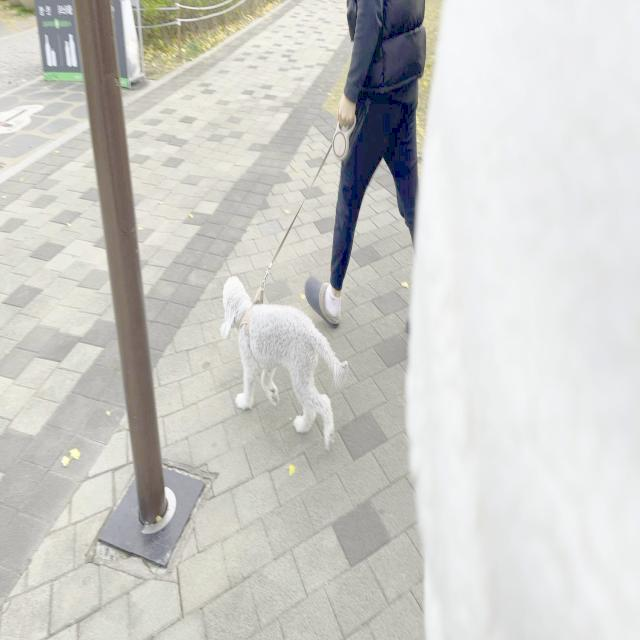Leashed_Dog: (219, 93, 364, 453)
